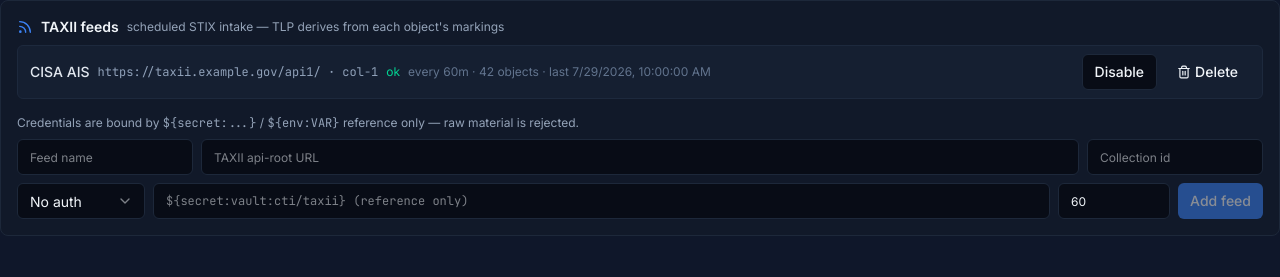
it: TaxiiFeedsPanel › surfaces the raw-credential 422 verbatim
Expected: the element with test id "taxii-feed-form" is shown, [17,115,1263,219]
Type "Bad" into the field with test id "taxii-feed-name". click: (105, 157)
box: [17,139,193,175]
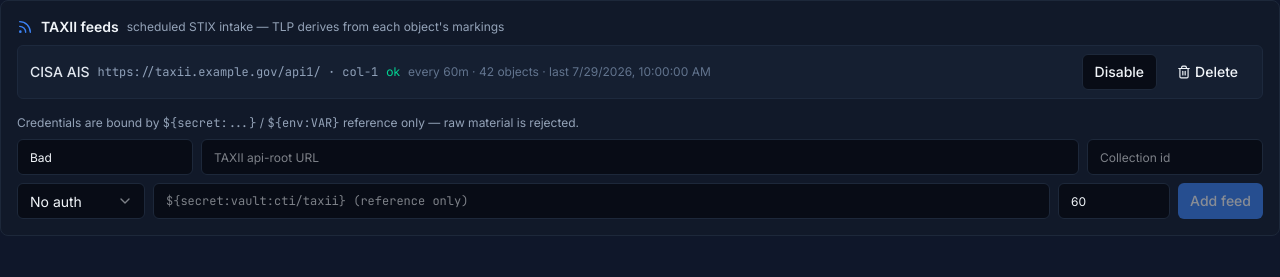
Type "https://x.example/" into the field with test id "taxii-feed-url". click: (640, 157)
box: [201,139,1079,175]
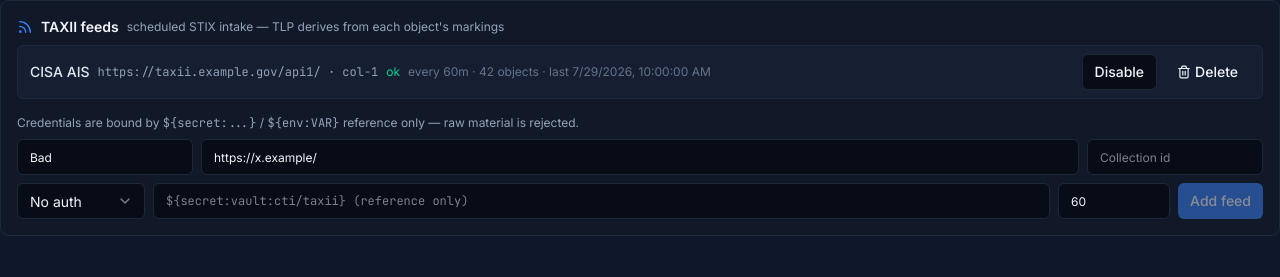
Type "c" into the field with test id "taxii-feed-collection". click: (1175, 157)
box: [1087,139,1263,175]
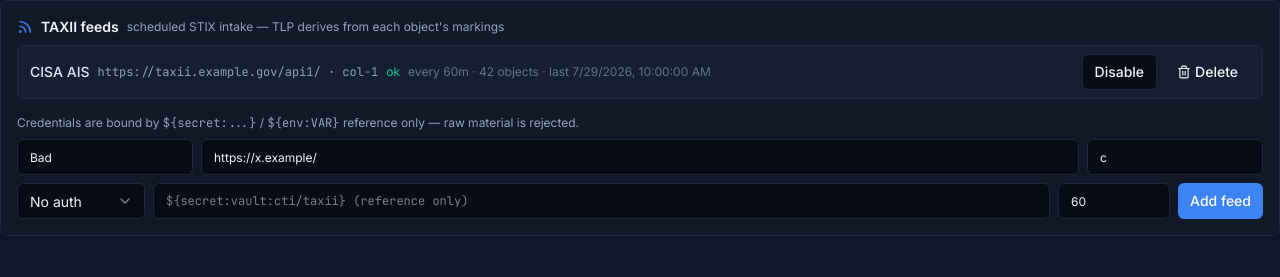
Click the button with test id "taxii-feed-create". click: (1221, 201)
box: [1178,183,1263,219]
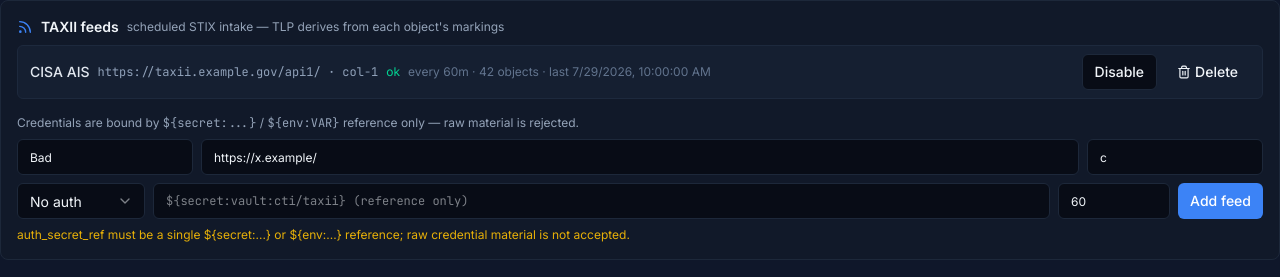
Now the message with test id "taxii-feeds-error" shows "raw credential material is not accepted", box [17,227,630,242]
